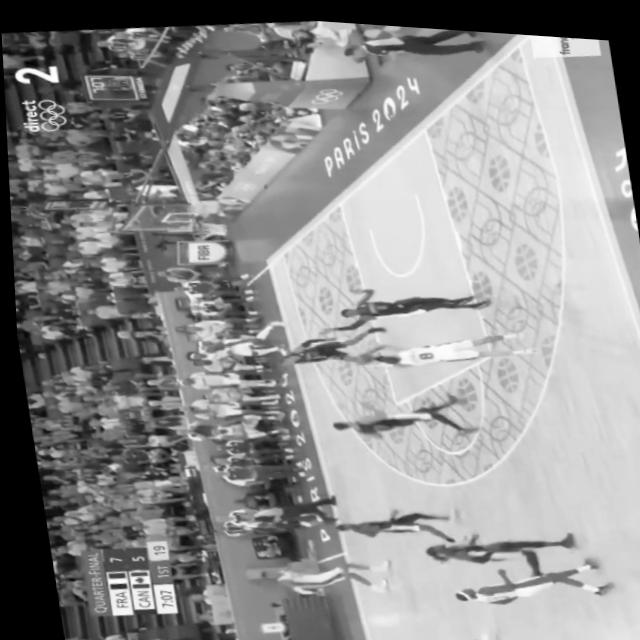ball_handler: (342, 304, 544, 374)
